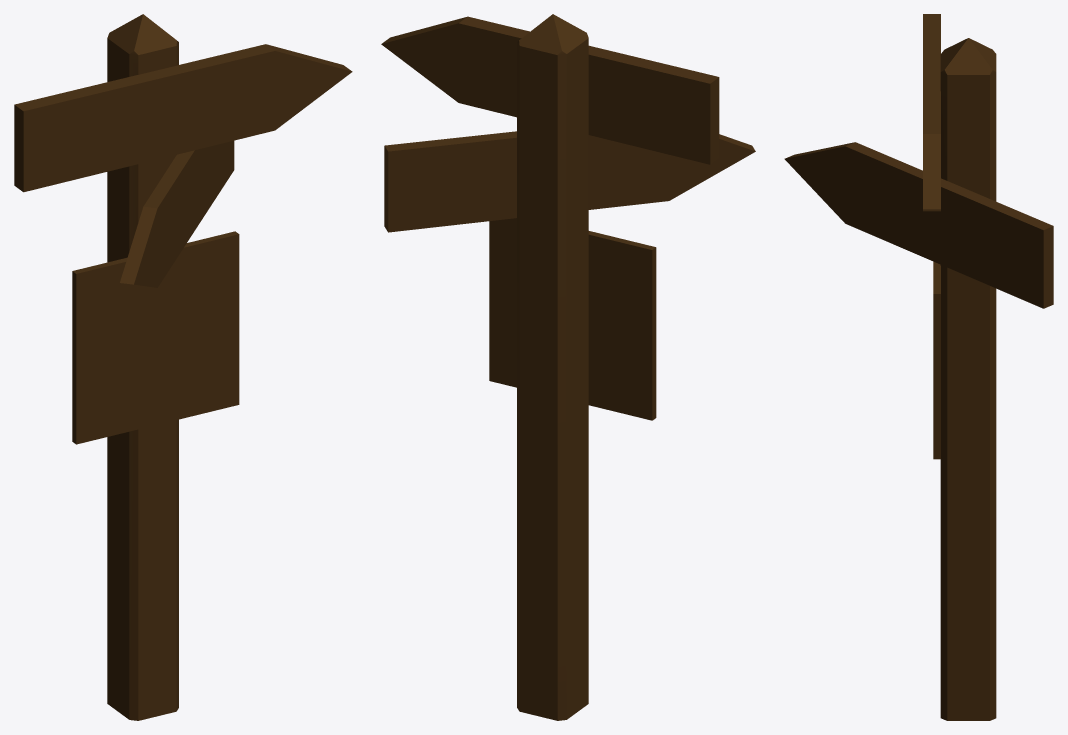
The model's file is DirectionPanel.glb.
3 renders of one model, left to right at view 1: azimuth 30°, elevation 25°; view 2: azimuth 150°, elevation 25°; view 3: azimuth 270°, elevation 25°, orthographic. The views are drawn at different scales.
Visible parts, largest first — view 1: POTEAU; view 2: POTEAU; view 3: POTEAU.
Part boxes in pixels (x1,y1,x2,y2): POTEAU: [14, 14, 352, 720]; POTEAU: [381, 14, 755, 720]; POTEAU: [784, 14, 1053, 720].
Bounding box in the file's own units: 0.9958 × 2 × 0.7275.
Materials: 1 (1 with a texture image).
